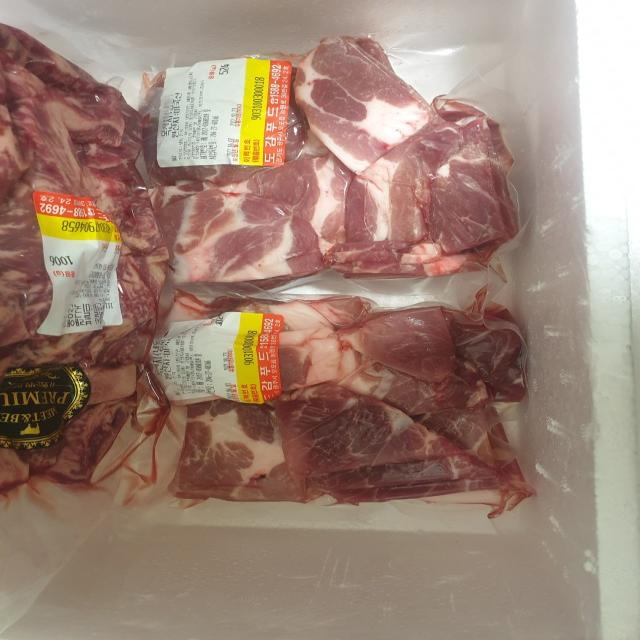pork: (0, 0, 553, 515)
